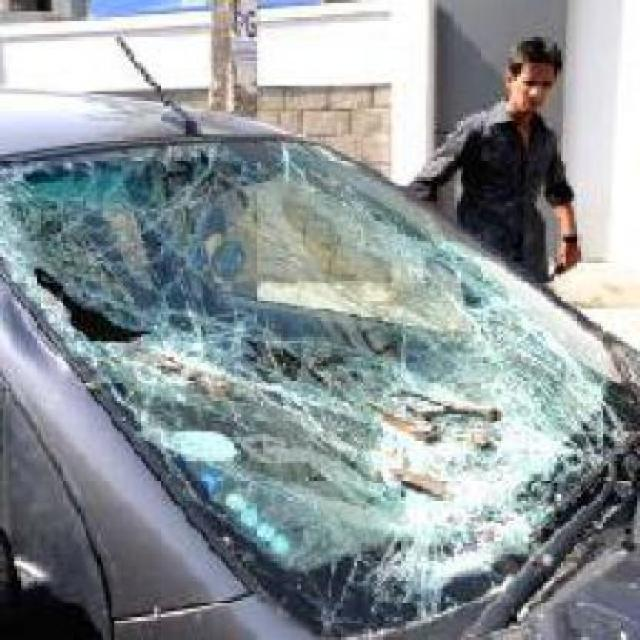damaged-windscreen: (0, 119, 637, 632)
